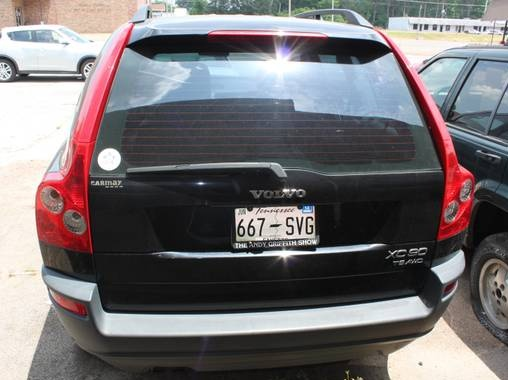volvo: (5, 5, 497, 380)
